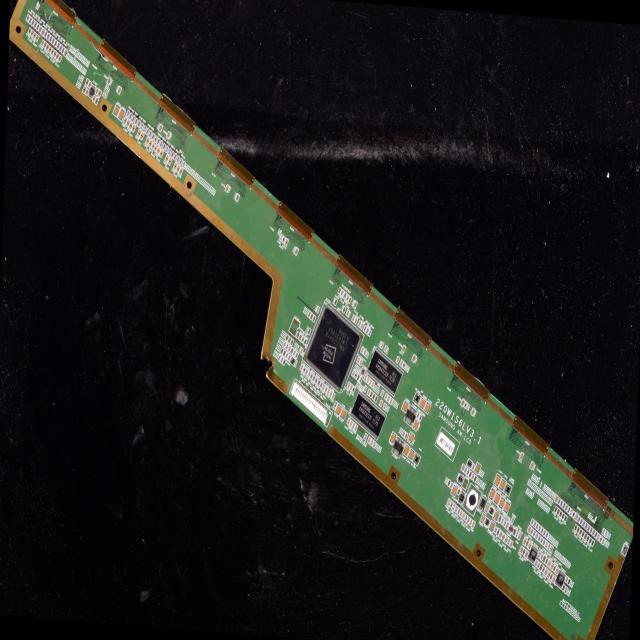Capacitor: (402, 441, 412, 460), (112, 100, 122, 118), (498, 476, 509, 492), (419, 395, 429, 411), (407, 447, 417, 463), (503, 500, 514, 514), (117, 106, 126, 123), (493, 472, 503, 487), (488, 487, 498, 502), (461, 476, 470, 491), (494, 492, 503, 507), (291, 245, 302, 257), (478, 514, 489, 526), (492, 509, 502, 522), (424, 400, 432, 416), (412, 418, 421, 432), (389, 430, 398, 444), (488, 521, 497, 535), (499, 496, 508, 509), (340, 407, 348, 421), (409, 353, 419, 364), (334, 404, 343, 416), (474, 462, 483, 474), (483, 501, 492, 513), (402, 399, 409, 414), (117, 80, 123, 97), (165, 129, 174, 140), (451, 484, 459, 496), (408, 432, 416, 443), (157, 120, 164, 132), (552, 494, 560, 504), (284, 237, 290, 249), (400, 345, 408, 354), (458, 399, 466, 408), (471, 406, 477, 418), (498, 530, 504, 542), (548, 546, 556, 555), (106, 74, 112, 86), (331, 392, 338, 402), (445, 498, 452, 508), (522, 536, 529, 546), (163, 154, 170, 164), (234, 193, 241, 203), (351, 302, 359, 310), (276, 234, 284, 242), (342, 292, 349, 301), (352, 300, 359, 309), (394, 355, 401, 364), (526, 525, 533, 534), (471, 521, 478, 530), (41, 41, 48, 50), (158, 150, 165, 159), (224, 184, 231, 193), (512, 526, 517, 538), (501, 532, 507, 542), (63, 46, 68, 58), (84, 77, 90, 87), (125, 118, 131, 128), (128, 120, 134, 130), (144, 136, 150, 146), (167, 156, 173, 166), (306, 328, 313, 336), (504, 521, 511, 529), (550, 577, 558, 584), (49, 48, 56, 56), (178, 168, 185, 176), (314, 305, 320, 314), (363, 384, 369, 393), (366, 436, 372, 445), (460, 463, 466, 472), (547, 559, 553, 568), (546, 570, 552, 579), (34, 33, 40, 42), (97, 89, 103, 98), (349, 382, 354, 392), (363, 432, 368, 442), (573, 524, 578, 534), (528, 541, 533, 551), (131, 124, 136, 134), (137, 128, 142, 138), (298, 364, 305, 371), (377, 400, 384, 407), (382, 404, 389, 411), (333, 298, 339, 306), (312, 315, 318, 323), (553, 506, 559, 514), (558, 511, 564, 519), (451, 504, 457, 512), (563, 515, 569, 523), (575, 526, 581, 534), (585, 534, 591, 542), (601, 538, 607, 546), (518, 546, 524, 554), (549, 563, 555, 571), (554, 568, 560, 576), (543, 568, 549, 576), (32, 32, 38, 40), (58, 54, 64, 62), (94, 96, 100, 104), (140, 130, 144, 142), (153, 135, 159, 143), (148, 137, 152, 149), (155, 148, 161, 156), (172, 163, 178, 171), (380, 389, 385, 398), (578, 529, 583, 538), (81, 85, 86, 94), (123, 116, 128, 125), (41, 37, 45, 48), (346, 310, 352, 317), (379, 342, 385, 349), (383, 346, 390, 352), (326, 388, 332, 395), (383, 394, 389, 401), (328, 390, 334, 397), (555, 509, 561, 516), (587, 538, 593, 545), (44, 44, 50, 51), (46, 47, 53, 53), (55, 53, 61, 60), (176, 166, 182, 173), (337, 288, 342, 296), (348, 296, 353, 304), (341, 306, 346, 314), (351, 315, 356, 323), (357, 320, 362, 328), (360, 322, 365, 330), (355, 356, 360, 364), (346, 381, 351, 389), (321, 384, 326, 392), (367, 388, 372, 396), (386, 394, 391, 402), (347, 418, 352, 426), (349, 419, 354, 427), (354, 425, 359, 433), (602, 528, 607, 536), (604, 530, 609, 538), (581, 531, 586, 539), (504, 536, 509, 544), (539, 564, 544, 572), (41, 26, 45, 36), (27, 28, 32, 36), (151, 142, 156, 150), (31, 26, 34, 39), (389, 398, 395, 404), (372, 442, 378, 448), (574, 514, 580, 520), (590, 541, 596, 547), (524, 552, 530, 558), (542, 556, 548, 562), (52, 52, 58, 58), (153, 146, 159, 152), (364, 374, 369, 381), (307, 372, 312, 379), (583, 534, 588, 541), (354, 317, 358, 325), (352, 369, 356, 377), (366, 376, 370, 384), (371, 381, 375, 389), (324, 386, 328, 394), (26, 14, 30, 22), (460, 510, 464, 518), (303, 339, 308, 345), (360, 347, 365, 353), (363, 349, 368, 355), (359, 359, 364, 365), (561, 514, 566, 520), (596, 534, 601, 540), (290, 348, 294, 355), (305, 368, 309, 375), (352, 423, 356, 430), (370, 439, 374, 446), (368, 380, 372, 386), (462, 513, 466, 519)
IC: (297, 300, 367, 396), (366, 340, 406, 400), (347, 391, 390, 439), (553, 568, 569, 590), (527, 542, 541, 564), (404, 406, 416, 430), (289, 316, 299, 337), (87, 82, 98, 100), (457, 489, 467, 504), (456, 473, 465, 485), (506, 524, 514, 535)
Resistor Network: (125, 108, 132, 119), (562, 504, 570, 512), (508, 542, 516, 550), (558, 499, 565, 508), (130, 115, 137, 124), (133, 116, 140, 125), (275, 352, 281, 362), (468, 518, 474, 528), (517, 532, 523, 542), (507, 537, 513, 547), (139, 121, 145, 131), (472, 475, 479, 483), (453, 506, 460, 514), (514, 531, 521, 539), (538, 538, 545, 546), (564, 576, 571, 584), (136, 120, 143, 128), (447, 478, 452, 489), (362, 324, 368, 333), (308, 372, 314, 381), (532, 519, 538, 528), (567, 578, 573, 587), (142, 124, 148, 133), (540, 526, 545, 536), (417, 415, 424, 422), (455, 509, 462, 516), (583, 523, 590, 530), (55, 42, 62, 49), (306, 310, 312, 318), (368, 329, 374, 337), (556, 497, 562, 505), (510, 515, 516, 523), (534, 522, 540, 530), (537, 524, 543, 532), (529, 527, 535, 535), (493, 526, 499, 534), (35, 23, 41, 31), (150, 133, 156, 141), (164, 146, 170, 154), (167, 148, 173, 156), (170, 150, 176, 158), (178, 158, 184, 166), (181, 160, 187, 168), (281, 236, 287, 244), (541, 565, 546, 574), (148, 130, 153, 139), (159, 140, 164, 149), (284, 335, 290, 342), (284, 343, 290, 350), (279, 357, 285, 364), (316, 379, 322, 386), (318, 382, 325, 388), (368, 391, 374, 398), (415, 412, 421, 419), (400, 431, 406, 438), (471, 464, 477, 471), (470, 474, 476, 481), (568, 509, 574, 516), (570, 512, 577, 518), (448, 502, 454, 509), (576, 516, 582, 523), (529, 519, 535, 526), (542, 528, 548, 535), (544, 532, 550, 539), (534, 533, 540, 540), (536, 535, 542, 542), (543, 542, 549, 549), (533, 560, 539, 567), (46, 34, 52, 41), (60, 47, 66, 54), (84, 89, 90, 96), (128, 113, 134, 120), (287, 336, 292, 344), (286, 354, 291, 362), (282, 359, 287, 367), (356, 374, 361, 382), (359, 376, 364, 384), (312, 374, 317, 382), (404, 432, 409, 440), (449, 482, 454, 490), (466, 517, 471, 525), (537, 551, 542, 559), (38, 26, 43, 34), (545, 557, 550, 565), (536, 562, 541, 570), (53, 40, 58, 48), (95, 87, 100, 95), (145, 128, 150, 136), (162, 142, 166, 152), (173, 154, 178, 162), (176, 156, 181, 164), (294, 353, 300, 359), (566, 507, 572, 513), (581, 521, 587, 527), (586, 525, 592, 531), (463, 516, 469, 522), (590, 530, 596, 536), (48, 36, 54, 42), (50, 38, 56, 44), (87, 81, 93, 87), (287, 346, 292, 353), (374, 395, 379, 402), (28, 16, 33, 23), (561, 502, 566, 509), (532, 530, 537, 537), (549, 574, 554, 581), (366, 328, 370, 336), (31, 18, 35, 26), (547, 543, 551, 551), (553, 564, 557, 572), (290, 340, 295, 346), (282, 342, 287, 348), (314, 378, 319, 384), (33, 22, 38, 28), (579, 518, 584, 524), (589, 528, 594, 534), (594, 532, 599, 538), (561, 585, 566, 591), (564, 588, 569, 594), (156, 139, 161, 145), (310, 313, 314, 320), (280, 348, 284, 355), (282, 350, 286, 357), (354, 372, 358, 379), (372, 393, 376, 400), (464, 467, 468, 474), (468, 472, 472, 479), (540, 553, 544, 560), (44, 31, 48, 38), (59, 44, 63, 51), (92, 95, 96, 102), (292, 351, 296, 357), (284, 352, 288, 358), (466, 470, 470, 476), (542, 540, 546, 546)
